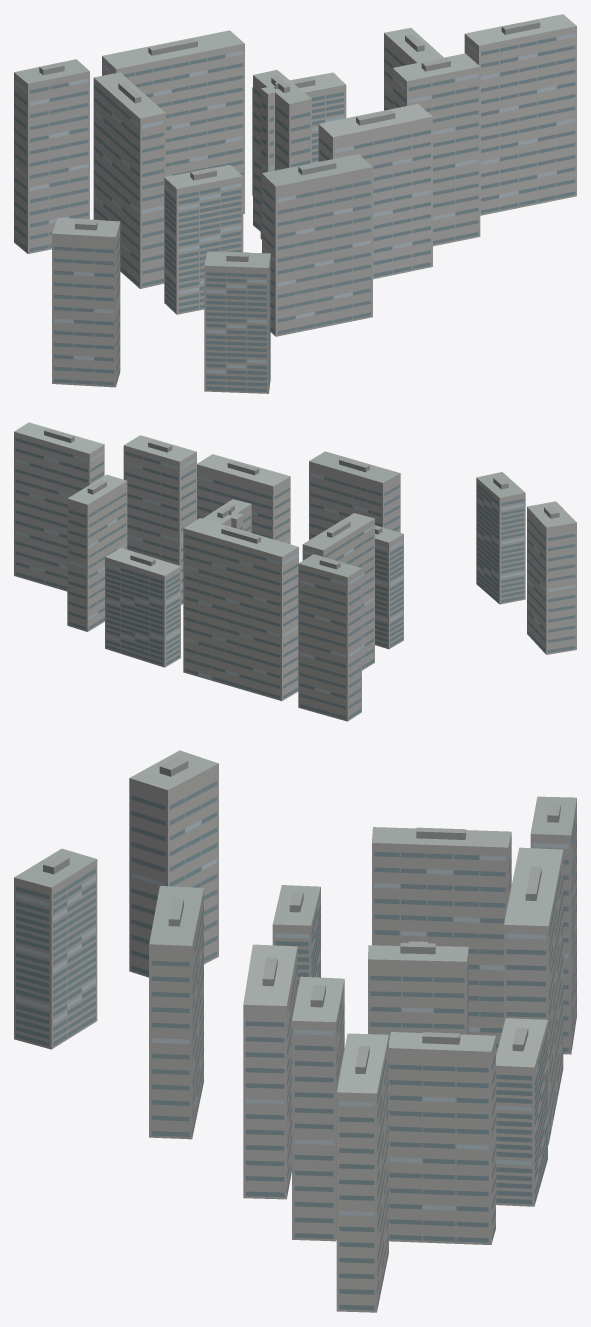
File: apt-a15209206.glb
3 renders of one model, top to bottom at view 1: azimuth 30°, elevation 25°; view 2: azimuth 150°, elevation 25°; view 3: azimuth 270°, elevation 25°, orthographic. The views are drawn at different scales.
Visible parts, largest first — view 1: apt-a15209206; view 2: apt-a15209206; view 3: apt-a15209206.
Boxes of the visible parts, box(x1,y1,x2,y2) form: apt-a15209206: box(14, 14, 576, 393); apt-a15209206: box(14, 422, 576, 721); apt-a15209206: box(14, 750, 576, 1312).
Bounding box in the file's own units: 277 × 79 × 178.
